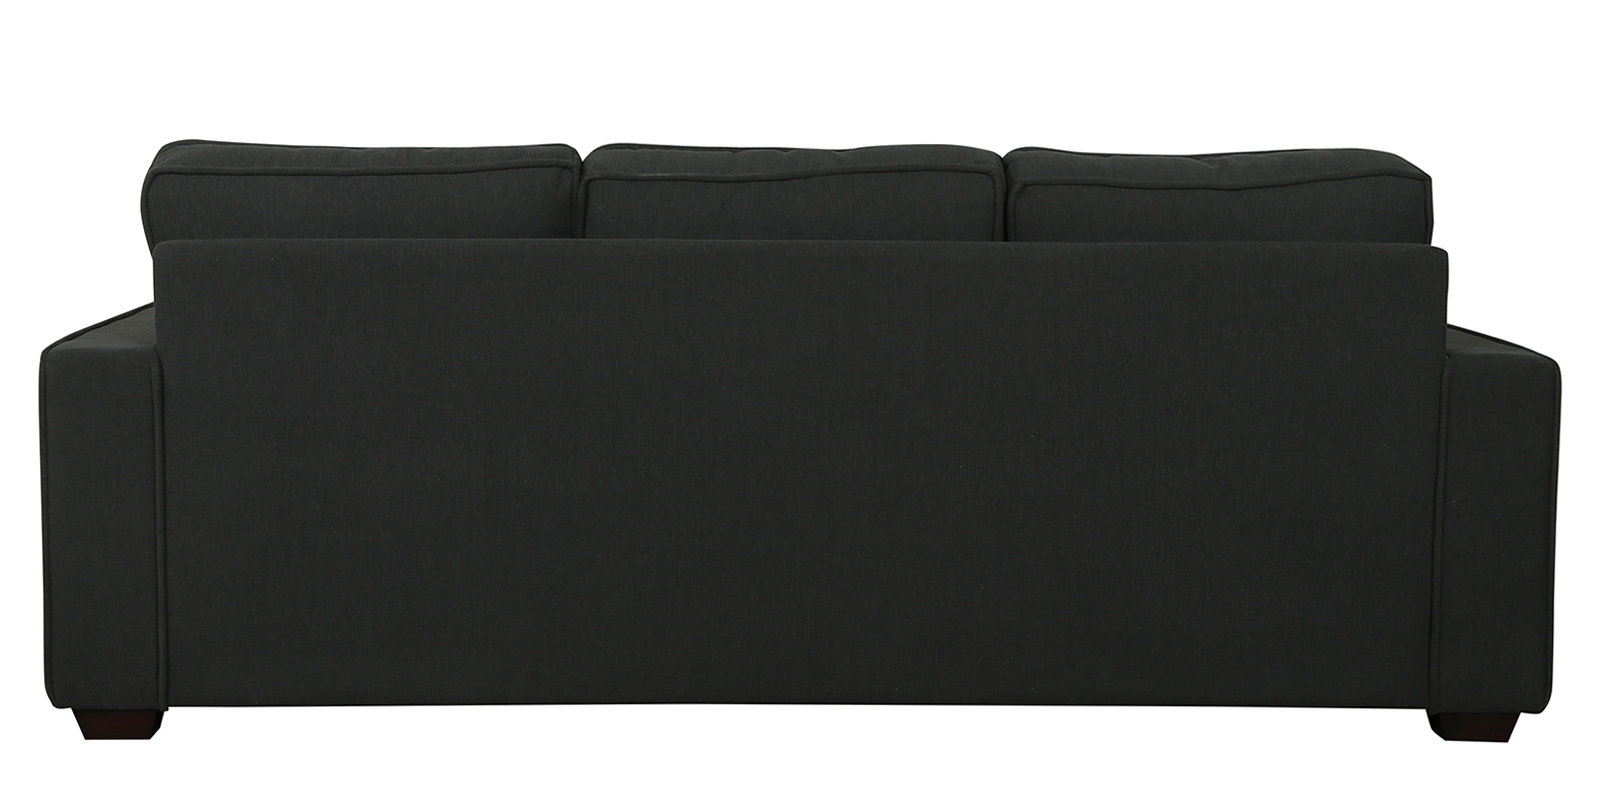Hugo Three Seater Sofa in Charcoal Grey Colour by CasaCraft: (35, 119, 1582, 772)
